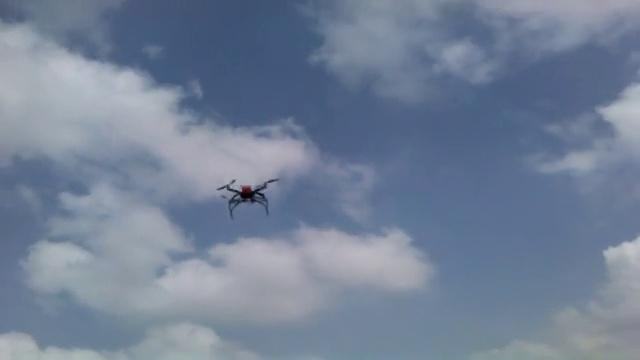drone: (213, 175, 278, 219)
